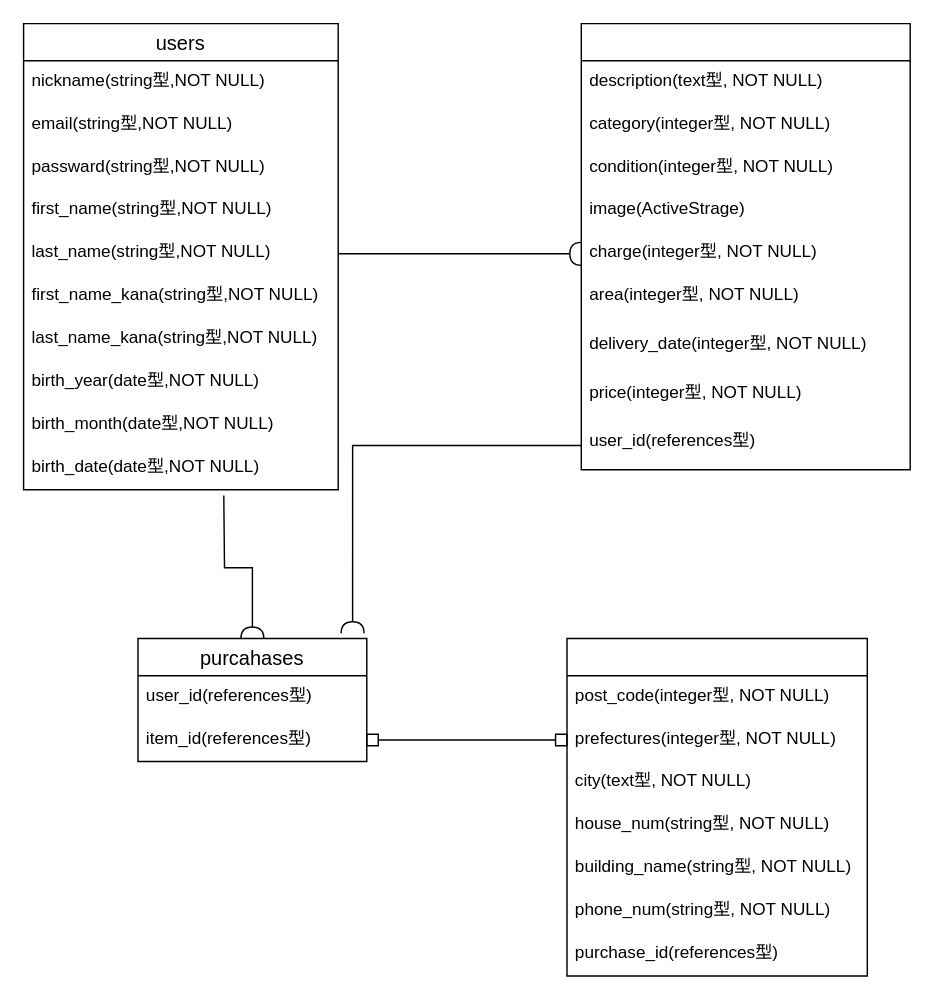
The diagram is 934 pixels wide and 1000 high, and some of its shapes have lost their labels. Each missing label, with the box of its shape:
addresses: (566, 637, 867, 976)
items: (580, 22, 910, 470)
